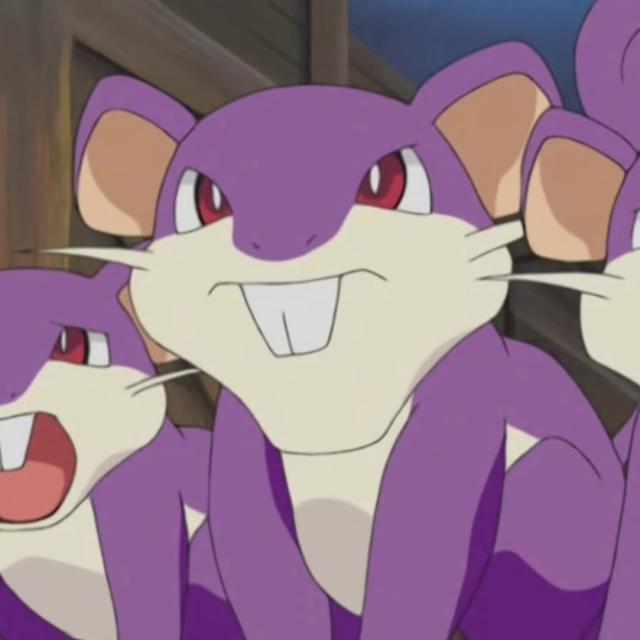Rattata: (85, 77, 567, 640)
